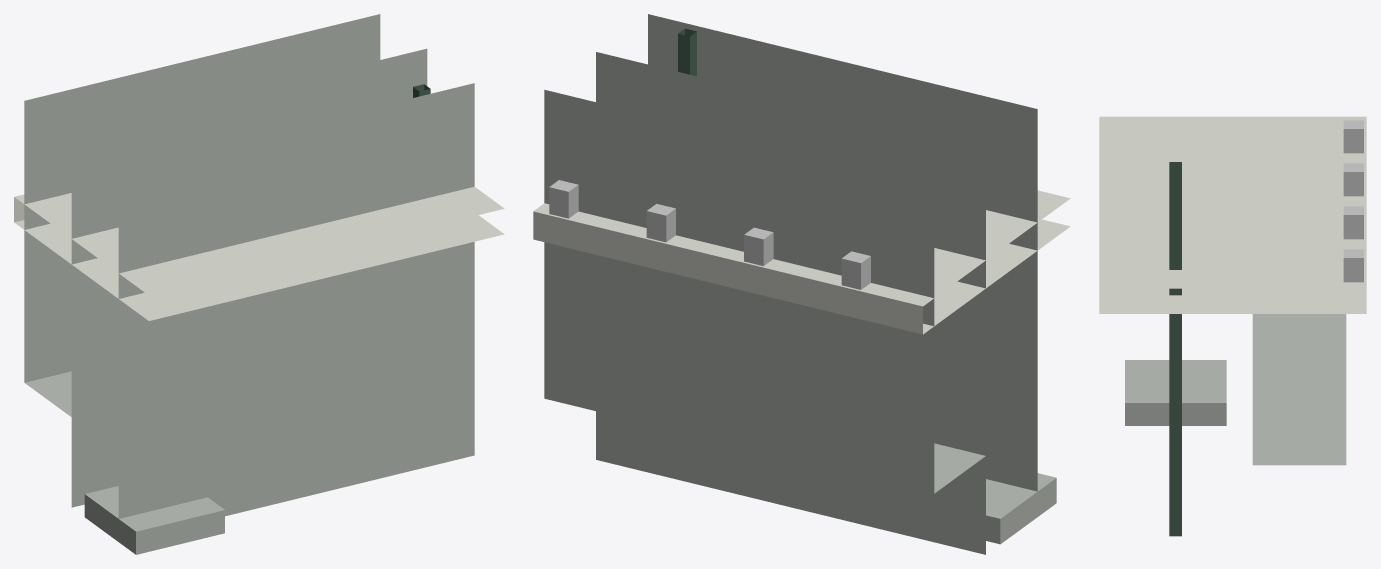
File: cell_13.obj
The picture shows the model from 3 angles, left to right: view 1: azimuth 30°, elevation 25°; view 2: azimuth 150°, elevation 25°; view 3: azimuth 270°, elevation 25°; orthographic projection. The views are drawn at different scales.
Bounding box in the file's own units: 1 × 1 × 0.6562.
